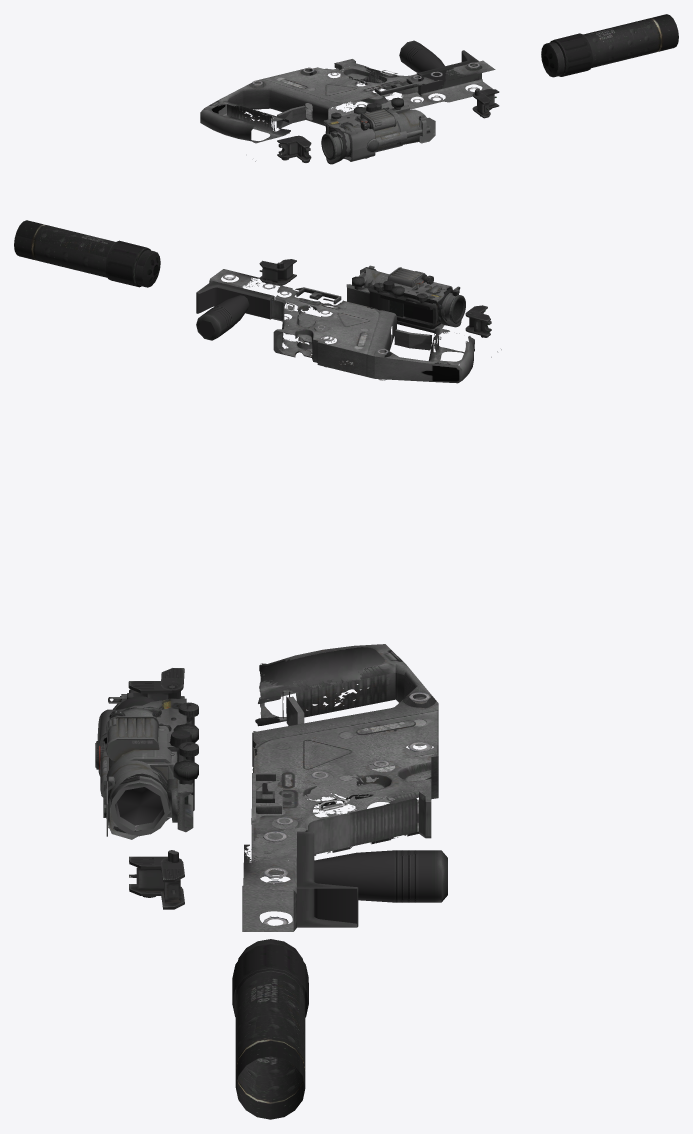
File: viewmodel_kriss_super_v_orange_fall_LOD0.obj
The picture shows the model from 3 angles, top to bottom: view 1: azimuth 30°, elevation 25°; view 2: azimuth 150°, elevation 25°; view 3: azimuth 270°, elevation 25°; orthographic projection. The views are drawn at different scales.
Visible parts, largest first — view 1: mtl_weapon_kriss_vector_orange_fall, mtl_weapon_suppressor_b, mtl_weapon_acog_2_orange_fall, mtl_weapon_thermal_sight_2_orange_fall, mtl_weapon_kriss_vector_foregrip, mtl_weapon_eotech_2_orange_fall, mtl_weapon_kriss_vector_sight_off, mtl_weapon_kriss_vector_sight_on; view 2: mtl_weapon_kriss_vector_orange_fall, mtl_weapon_suppressor_b, mtl_weapon_kriss_vector_foregrip, mtl_weapon_acog_2_orange_fall, mtl_weapon_eotech_2_orange_fall, mtl_weapon_thermal_sight_2_orange_fall, mtl_weapon_red_dot_sight_orange_fall, mtl_weapon_kriss_vector_sight_off, mtl_weapon_kriss_vector_sight_on; view 3: mtl_weapon_kriss_vector_orange_fall, mtl_weapon_suppressor_b, mtl_weapon_kriss_vector_foregrip, mtl_weapon_thermal_sight_2_orange_fall, mtl_weapon_acog_2_orange_fall, mtl_weapon_kriss_vector_sight_on, mtl_weapon_kriss_vector_sight_off, mtl_weapon_eotech_2_orange_fall, mtl_weapon_thermal_lens_2.
Part boxes in pixels (box(x1,y1,x2,y2)): mtl_weapon_kriss_vector_orange_fall: box(200, 59, 495, 161); mtl_weapon_suppressor_b: box(541, 14, 678, 77); mtl_weapon_acog_2_orange_fall: box(321, 97, 431, 160); mtl_weapon_thermal_sight_2_orange_fall: box(326, 103, 435, 164); mtl_weapon_kriss_vector_foregrip: box(399, 40, 479, 92); mtl_weapon_eotech_2_orange_fall: box(323, 111, 375, 161); mtl_weapon_kriss_vector_sight_off: box(277, 89, 499, 160); mtl_weapon_kriss_vector_sight_on: box(295, 89, 490, 162); mtl_weapon_kriss_vector_orange_fall: box(209, 269, 501, 383); mtl_weapon_suppressor_b: box(14, 220, 160, 287); mtl_weapon_kriss_vector_foregrip: box(196, 281, 274, 340); mtl_weapon_acog_2_orange_fall: box(346, 265, 465, 323); mtl_weapon_eotech_2_orange_fall: box(380, 282, 452, 333); mtl_weapon_thermal_sight_2_orange_fall: box(358, 267, 461, 327); mtl_weapon_red_dot_sight_orange_fall: box(368, 282, 437, 328); mtl_weapon_kriss_vector_sight_off: box(259, 260, 491, 337); mtl_weapon_kriss_vector_sight_on: box(274, 259, 487, 330); mtl_weapon_kriss_vector_orange_fall: box(242, 644, 438, 931); mtl_weapon_suppressor_b: box(232, 939, 308, 1119); mtl_weapon_kriss_vector_foregrip: box(297, 831, 447, 927); mtl_weapon_thermal_sight_2_orange_fall: box(100, 696, 191, 836); mtl_weapon_acog_2_orange_fall: box(95, 693, 198, 839); mtl_weapon_kriss_vector_sight_on: box(128, 681, 181, 897); mtl_weapon_kriss_vector_sight_off: box(161, 668, 184, 909); mtl_weapon_eotech_2_orange_fall: box(97, 698, 194, 799); mtl_weapon_thermal_lens_2: box(117, 787, 162, 825).
Size of the model in its own units: 84.04 by 5.19 by 29.83.
